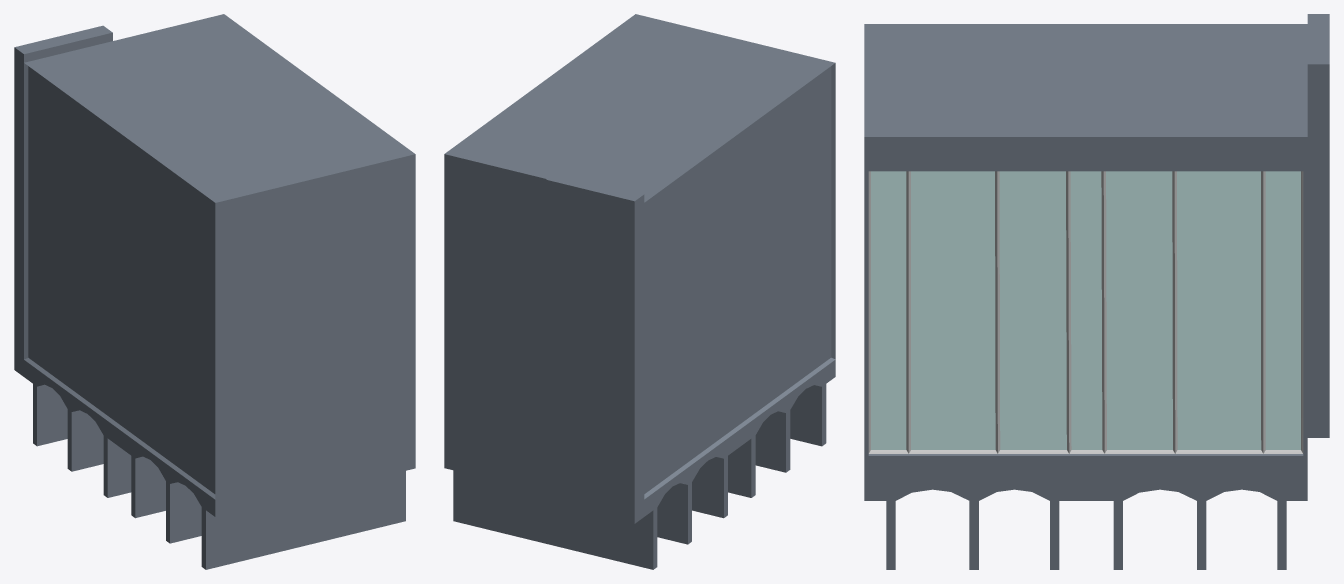
File: Uni_Back_Building3.fbx
3 views of the same model, side by side, from view 1: azimuth 30°, elevation 25°; view 2: azimuth 150°, elevation 25°; view 3: azimuth 270°, elevation 25° (orthographic). The views are drawn at different scales.
Parts seen in each view (by area): view 1: UBBB; view 2: UBBB; view 3: UBBB.
Part boxes in pixels (x1,y1,x2,y2): UBBB: (14, 14, 415, 569); UBBB: (444, 14, 835, 569); UBBB: (864, 14, 1329, 569).
Size of the model in its own units: 4625 by 8447 by 8048.
